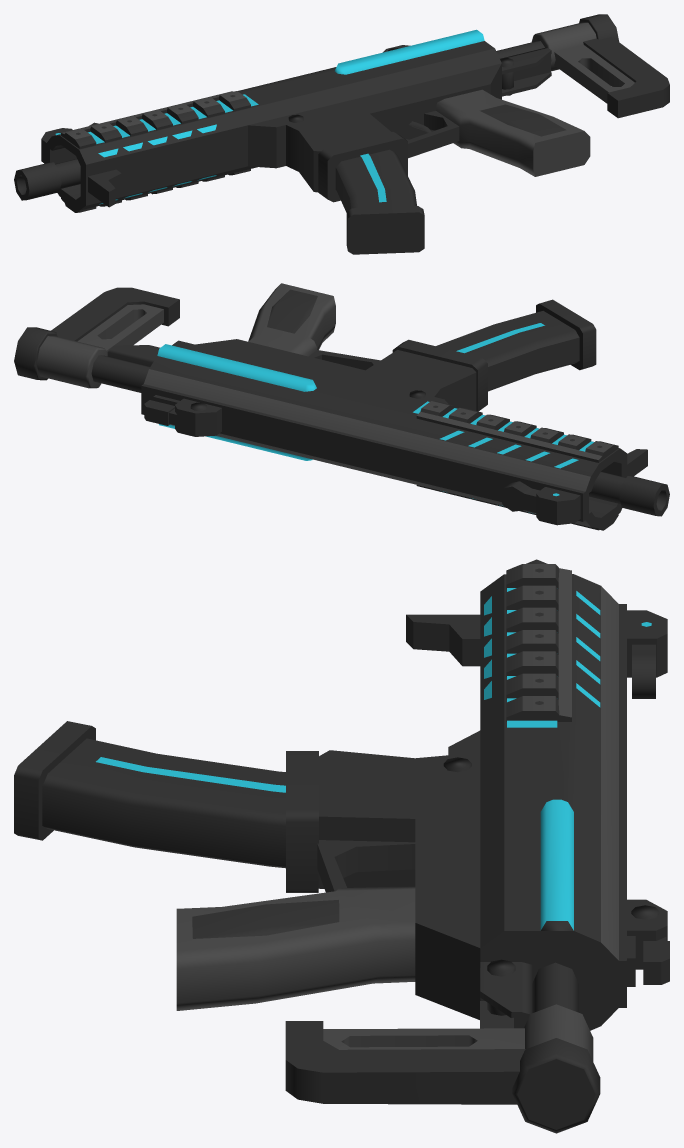
Rendered from YukaGun.fbx.
3 views of the same model, one above another, from view 1: azimuth 30°, elevation 25°; view 2: azimuth 150°, elevation 25°; view 3: azimuth 270°, elevation 25° (orthographic). The views are drawn at different scales.
Visible parts, largest first — view 1: Yuuka_Original_Weapon; view 2: Yuuka_Original_Weapon; view 3: Yuuka_Original_Weapon.
Part boxes in pixels (x1,y1,x2,y2): Yuuka_Original_Weapon: (14,14,669,254); Yuuka_Original_Weapon: (14,283,669,530); Yuuka_Original_Weapon: (14,559,669,1133).
Size of the model in its own units: 43.11 by 5.13 by 23.51.
1 material, 1 textured.
